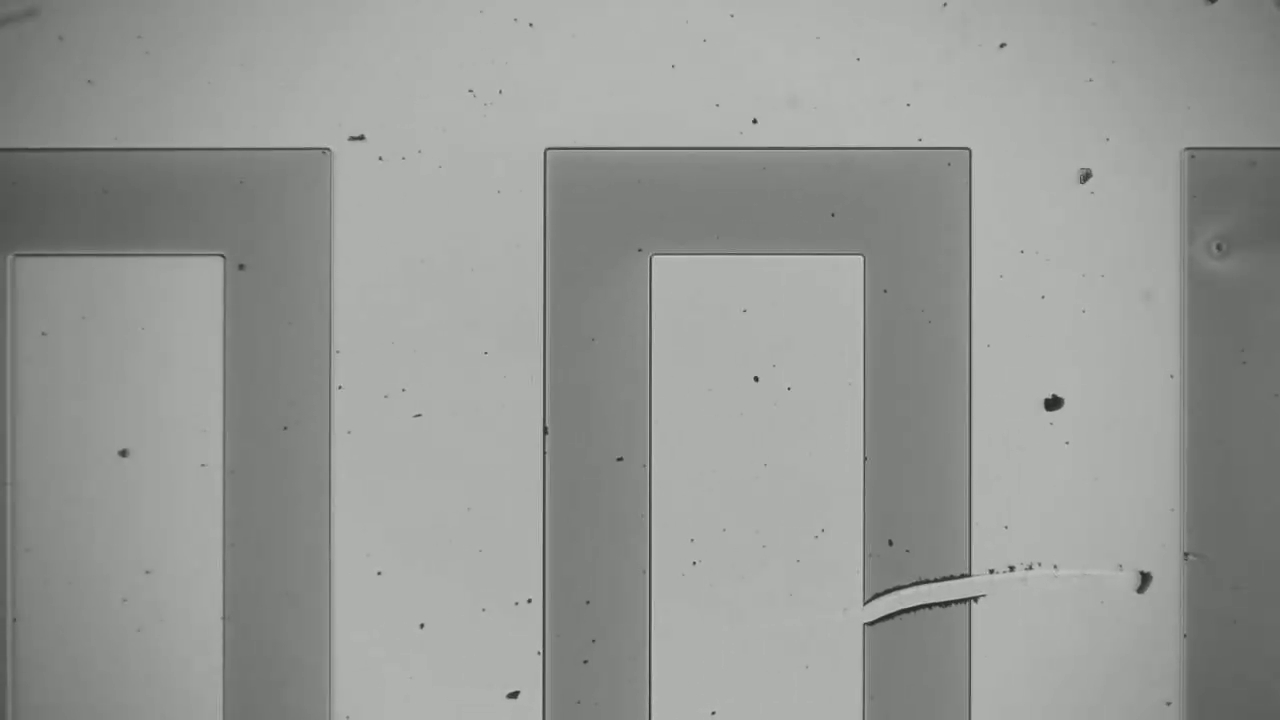Short_circuit: (836, 555, 1006, 648)
